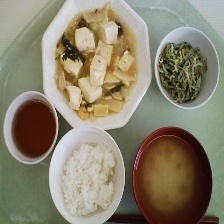rice: (53, 137, 120, 223)
